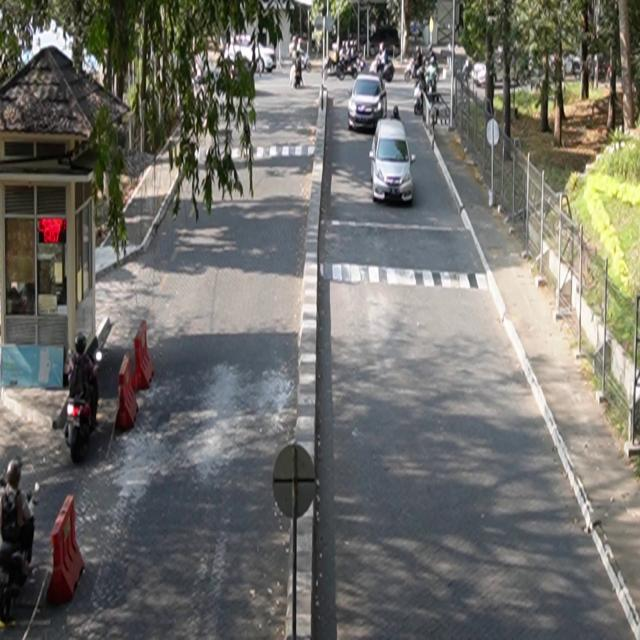car: (370, 119, 417, 206), (348, 74, 388, 133)
